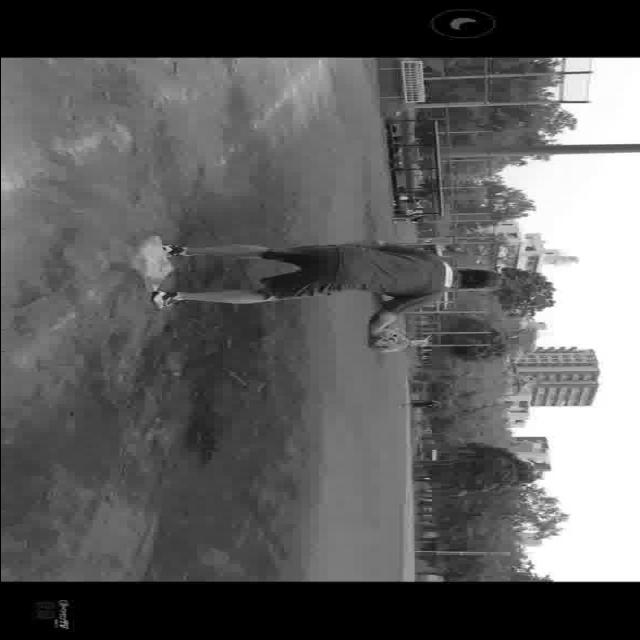base: (122, 234, 174, 296)
baseball_glove: (356, 326, 414, 356)
shoe: (147, 288, 183, 312), (160, 242, 190, 260)
